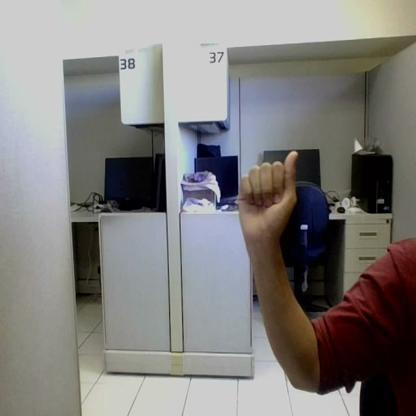A: (240, 151, 298, 238)
